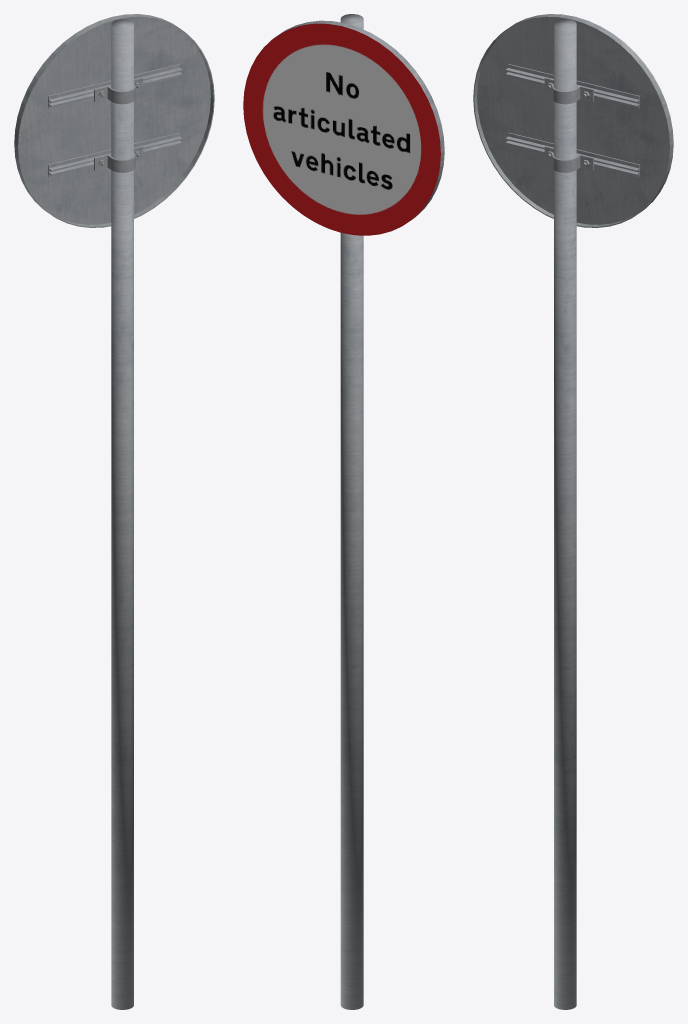
Rendered from Articulated_vehicles_prohibited.fbx.
3 views of the same model, side by side, from view 1: azimuth 30°, elevation 25°; view 2: azimuth 150°, elevation 25°; view 3: azimuth 330°, elevation 25° (orthographic).
Parts seen in each view (by area): view 1: Articulated vehicles prohibited; view 2: Articulated vehicles prohibited; view 3: Articulated vehicles prohibited.
Boxes of the visible parts, x1=… form: Articulated vehicles prohibited: x1=14, y1=14, x2=214, y2=1009; Articulated vehicles prohibited: x1=243, y1=14, x2=444, y2=1009; Articulated vehicles prohibited: x1=473, y1=14, x2=673, y2=1009.
Bounding box in the file's own units: 0.0876 × 0.6 × 2.86.
